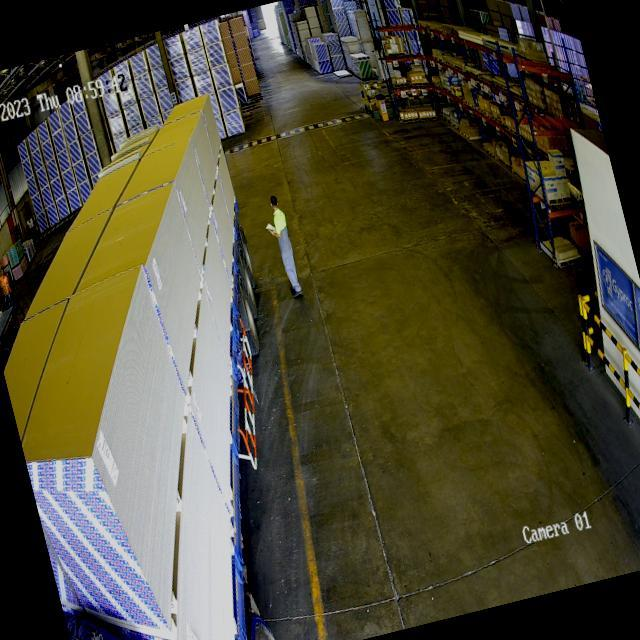person: (260, 191, 307, 304)
